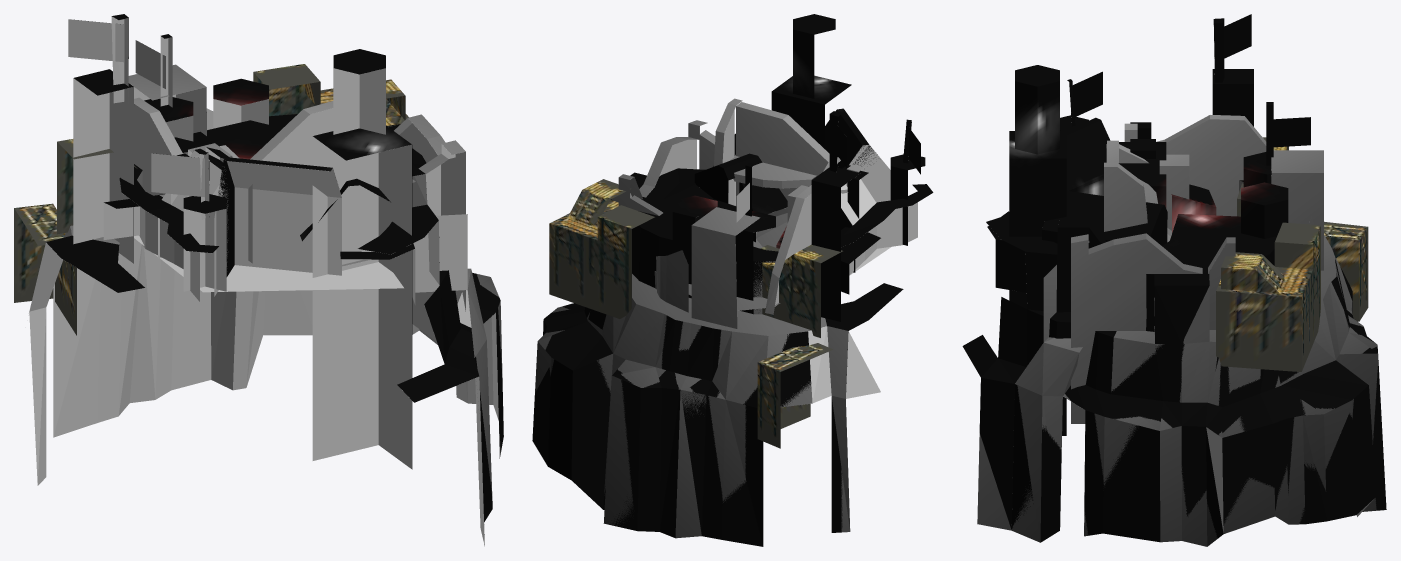
File: T_GamblingHouse_01.fbx
3 views of the same model, side by side, from view 1: azimuth 30°, elevation 25°; view 2: azimuth 150°, elevation 25°; view 3: azimuth 270°, elevation 25° (orthographic). The views are drawn at different scales.
Visible parts, largest first — view 1: T_GamblingHouse_01, T_GamblingHouse_01_Lock, FX_Territory_NightGlow, FX_BuildUnLock_Glow, T_BuildForm_06, T_BuildForm_04, T_BuildForm_05; view 2: FX_Territory_NightGlow, FX_BuildUnLock_Glow, T_BuildForm_04, T_GamblingHouse_01, T_BuildForm_05, T_BuildForm_06, T_GamblingHouse_01_Lock; view 3: FX_Territory_NightGlow, FX_BuildUnLock_Glow, T_BuildForm_04, T_BuildForm_06, T_GamblingHouse_01.
Boxes of the visible parts, box(x1,y1,x2,y2) form: T_GamblingHouse_01: box(29, 16, 498, 546); T_GamblingHouse_01_Lock: box(42, 87, 499, 527); FX_Territory_NightGlow: box(46, 14, 503, 544); FX_BuildUnLock_Glow: box(70, 64, 502, 495); T_BuildForm_06: box(14, 203, 76, 335); T_BuildForm_04: box(253, 64, 408, 126); T_BuildForm_05: box(57, 139, 137, 234); FX_Territory_NightGlow: box(532, 14, 933, 546); FX_BuildUnLock_Glow: box(535, 98, 864, 538); T_BuildForm_04: box(549, 179, 654, 318); T_GamblingHouse_01: box(728, 121, 917, 400); T_BuildForm_05: box(760, 244, 842, 337); T_BuildForm_06: box(757, 343, 833, 448); T_GamblingHouse_01_Lock: box(630, 105, 850, 529); FX_Territory_NightGlow: box(962, 14, 1386, 542); FX_BuildUnLock_Glow: box(977, 115, 1378, 546); T_BuildForm_04: box(1216, 222, 1320, 371); T_BuildForm_06: box(1324, 221, 1368, 321); T_GamblingHouse_01: box(979, 25, 1373, 532).
Size of the model in its own units: 12.08 by 13.21 by 12.36.
